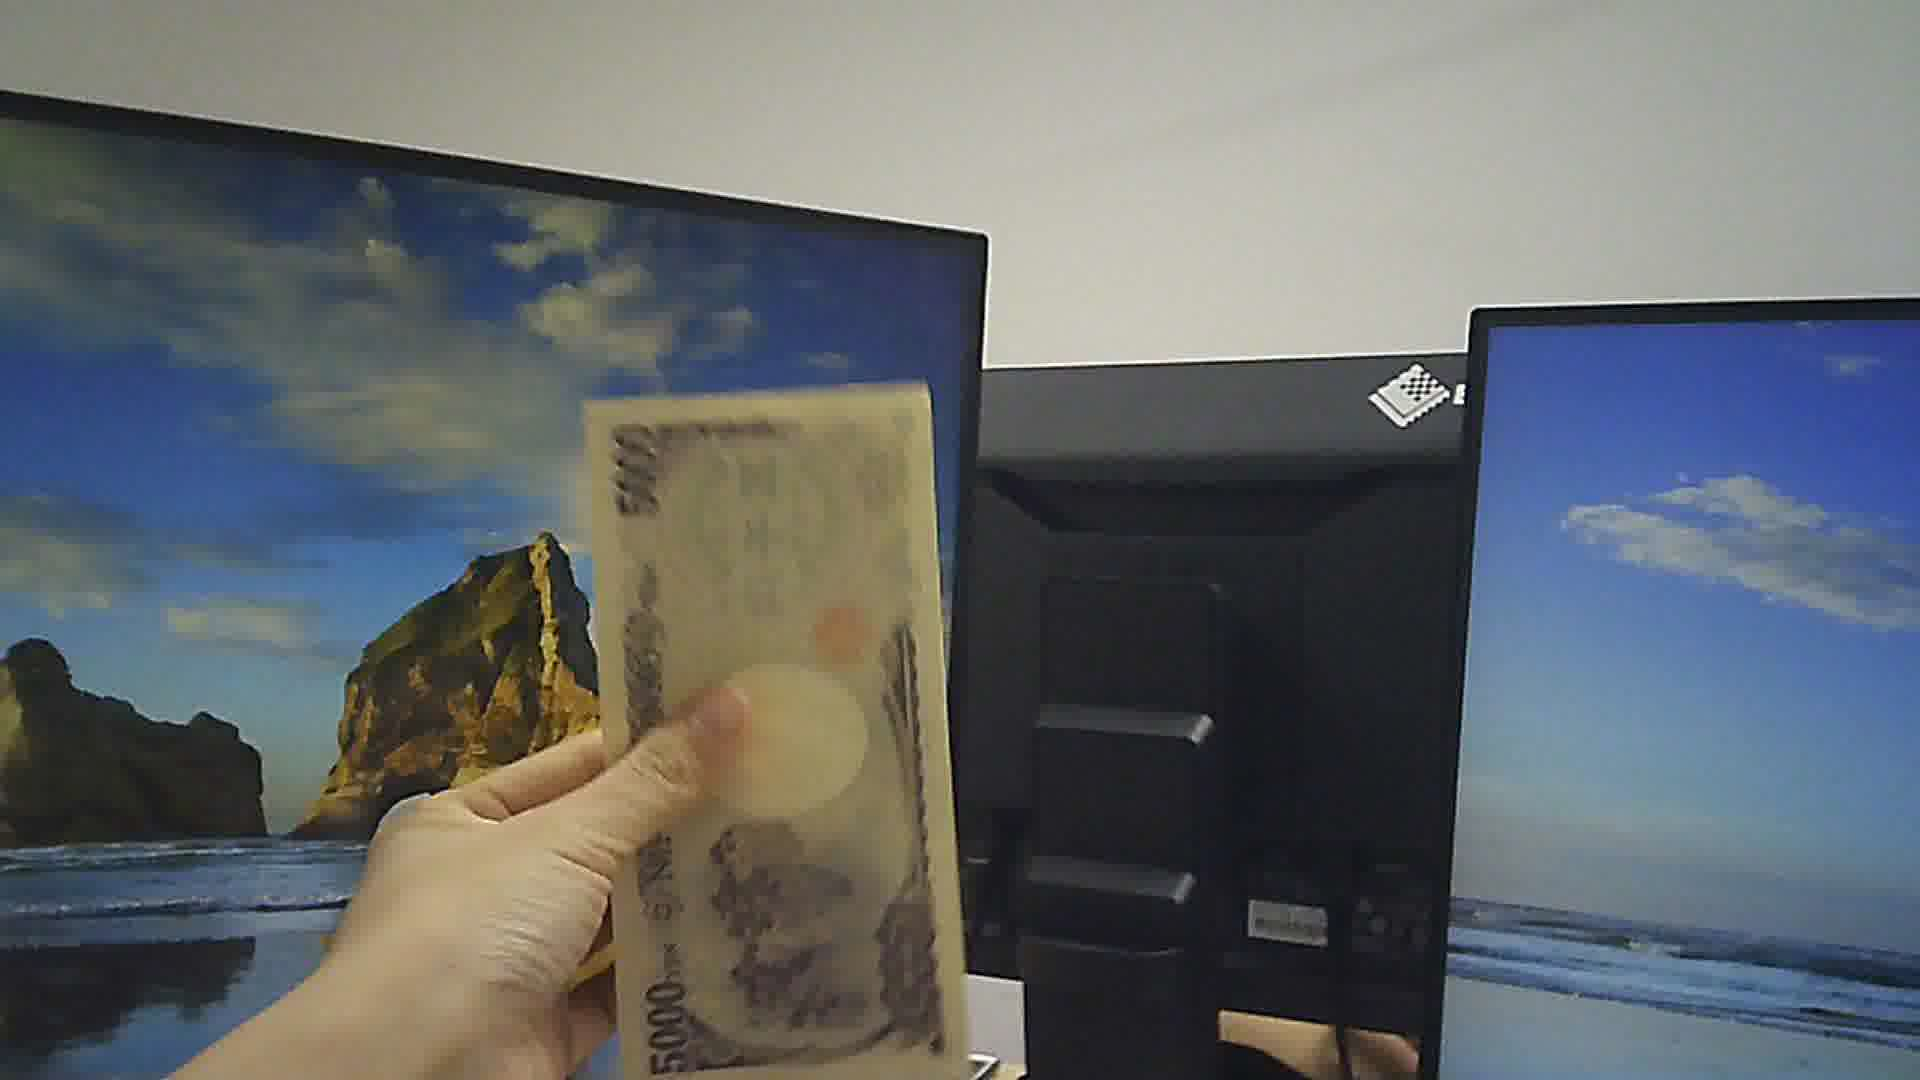5,000 Yen: (580, 371, 972, 1079)
